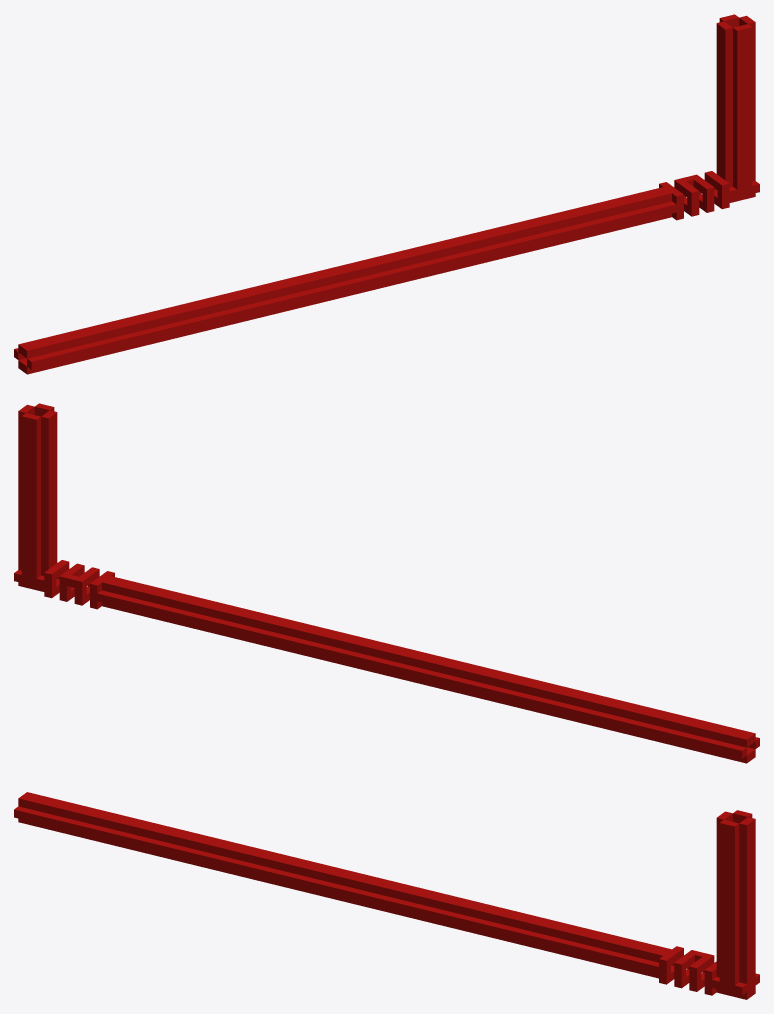
File: plastic_straw.glb
3 views of the same model, one above another, from view 1: azimuth 30°, elevation 25°; view 2: azimuth 150°, elevation 25°; view 3: azimuth 330°, elevation 25° (orthographic).
Visible parts, largest first — view 1: plastic_straw:compound; view 2: plastic_straw:compound; view 3: plastic_straw:compound.
Part boxes in pixels (<box>): plastic_straw:compound: <box>14,14,759,374</box>; plastic_straw:compound: <box>14,403,759,763</box>; plastic_straw:compound: <box>14,792,759,999</box>.
Size of the model in its own units: 0.192 by 0.044 by 0.008.
